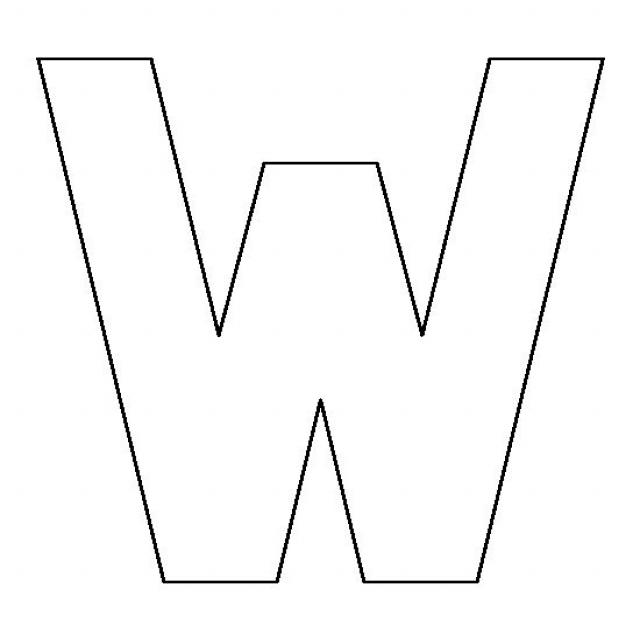W: (21, 23, 617, 620)
